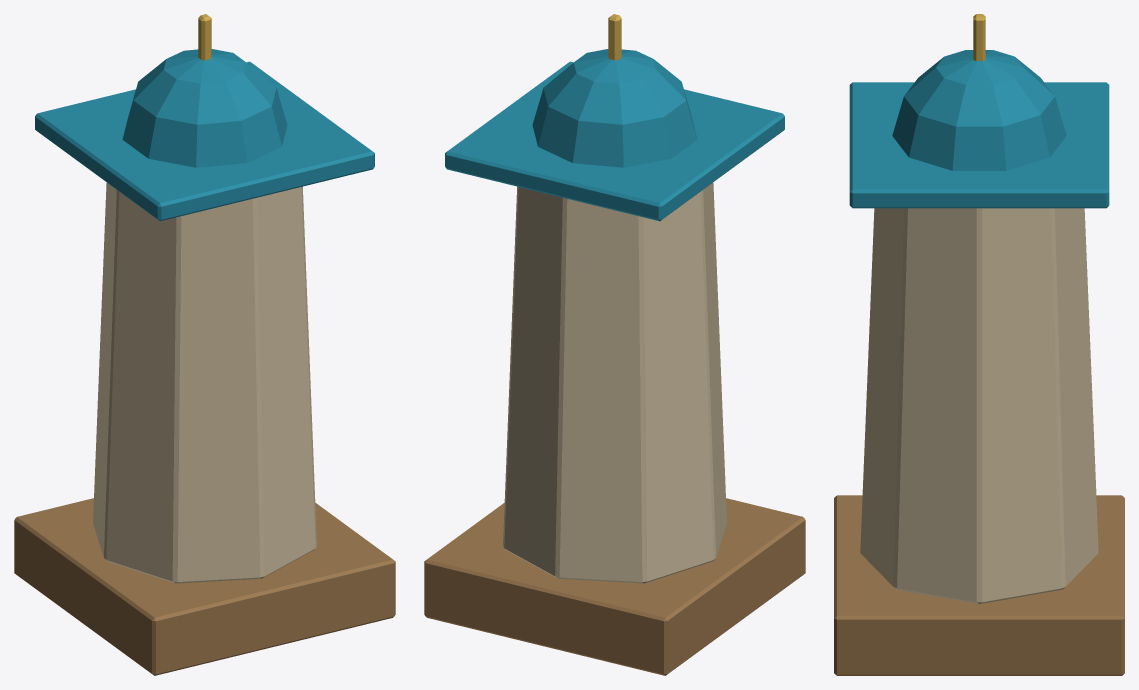
File: middle_eastern-post.glb
3 views of the same model, side by side, from view 1: azimuth 30°, elevation 25°; view 2: azimuth 150°, elevation 25°; view 3: azimuth 270°, elevation 25° (orthographic). The views are drawn at different scales.
Parts seen in each view (by area): view 1: body; view 2: body; view 3: body.
Part boxes in pixels (<box>): body: <box>14,14,395,675</box>; body: <box>424,14,805,675</box>; body: <box>834,14,1124,675</box>.
Bounding box in the file's own units: 1.4 × 3.19 × 1.4.
